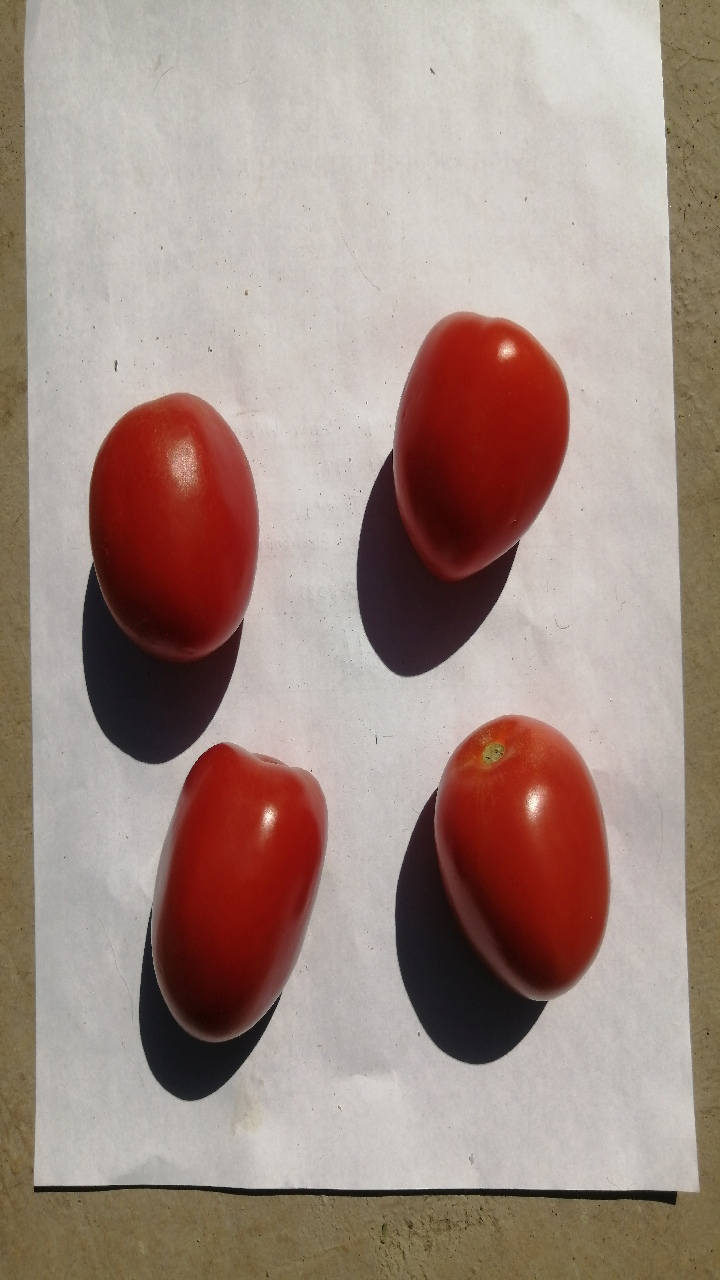tomateRojo: (357, 279, 611, 605), (135, 729, 344, 1079), (409, 702, 620, 1014), (64, 377, 263, 665)
